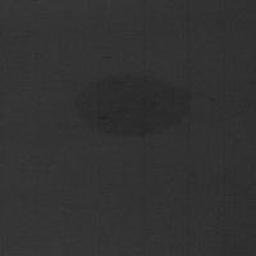Oil spot: (70, 70, 195, 142)
